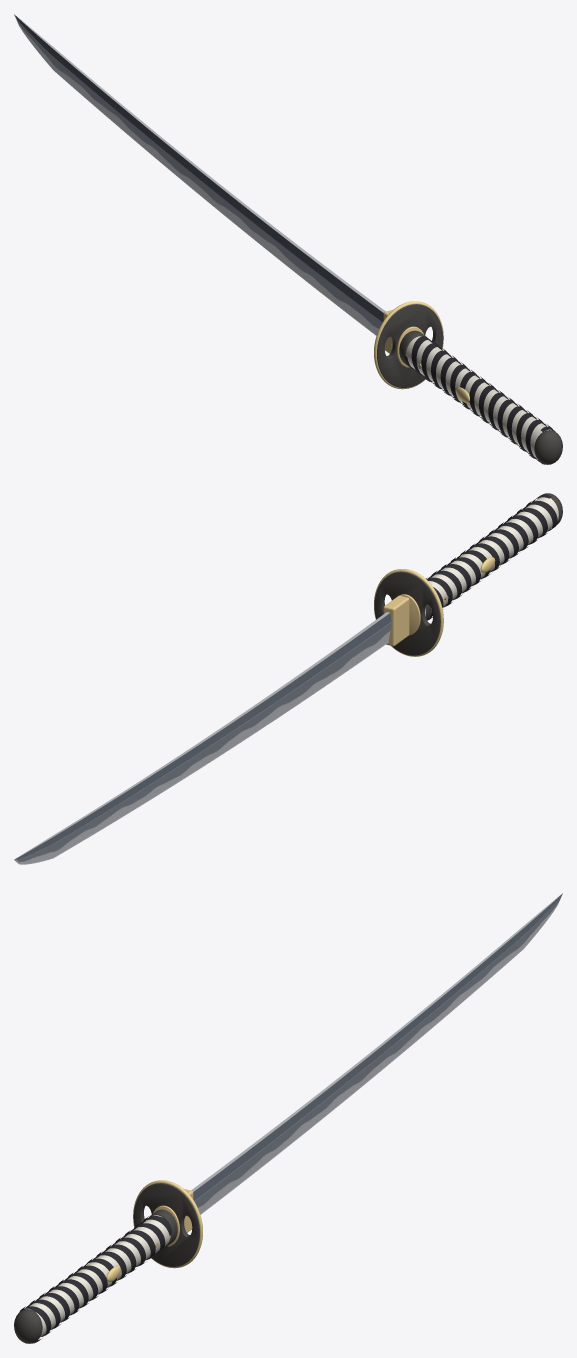
Rendered from katana.glb.
The picture shows the model from 3 angles, top to bottom: view 1: azimuth 30°, elevation 25°; view 2: azimuth 150°, elevation 25°; view 3: azimuth 330°, elevation 25°; orthographic projection.
Visible parts, largest first — view 1: blade, tsuba, samegawa, ito, ito.001, kashira, tsuba_rim; view 2: blade, tsuba, samegawa, ito, ito.001, habaki, tsuba_rim; view 3: blade, tsuba, samegawa, ito.001, ito, kashira, tsuba_rim.
Part boxes in pixels (x1,y1,x2,y2): blade: (14, 14, 385, 335); tsuba: (377, 304, 443, 387); samegawa: (406, 336, 551, 457); ito: (411, 336, 546, 462); ito.001: (405, 343, 555, 454); kashira: (534, 430, 562, 464); tsuba_rim: (374, 301, 443, 389); blade: (14, 612, 391, 864); tsuba: (374, 571, 440, 655); samegawa: (428, 497, 558, 615); ito: (428, 501, 557, 607); ito.001: (427, 494, 551, 619); habaki: (383, 595, 409, 646); tsuba_rim: (374, 569, 443, 656); blade: (191, 893, 562, 1214); tsuba: (133, 1183, 199, 1266); samegawa: (25, 1215, 170, 1336); ito.001: (25, 1223, 165, 1336); ito: (24, 1216, 171, 1329); kashira: (14, 1309, 42, 1343); tsuba_rim: (133, 1180, 202, 1268).
Size of the model in its own units: 0.0759 by 0.0902 by 1.02.
Materials: 7 (1 with a texture image).
